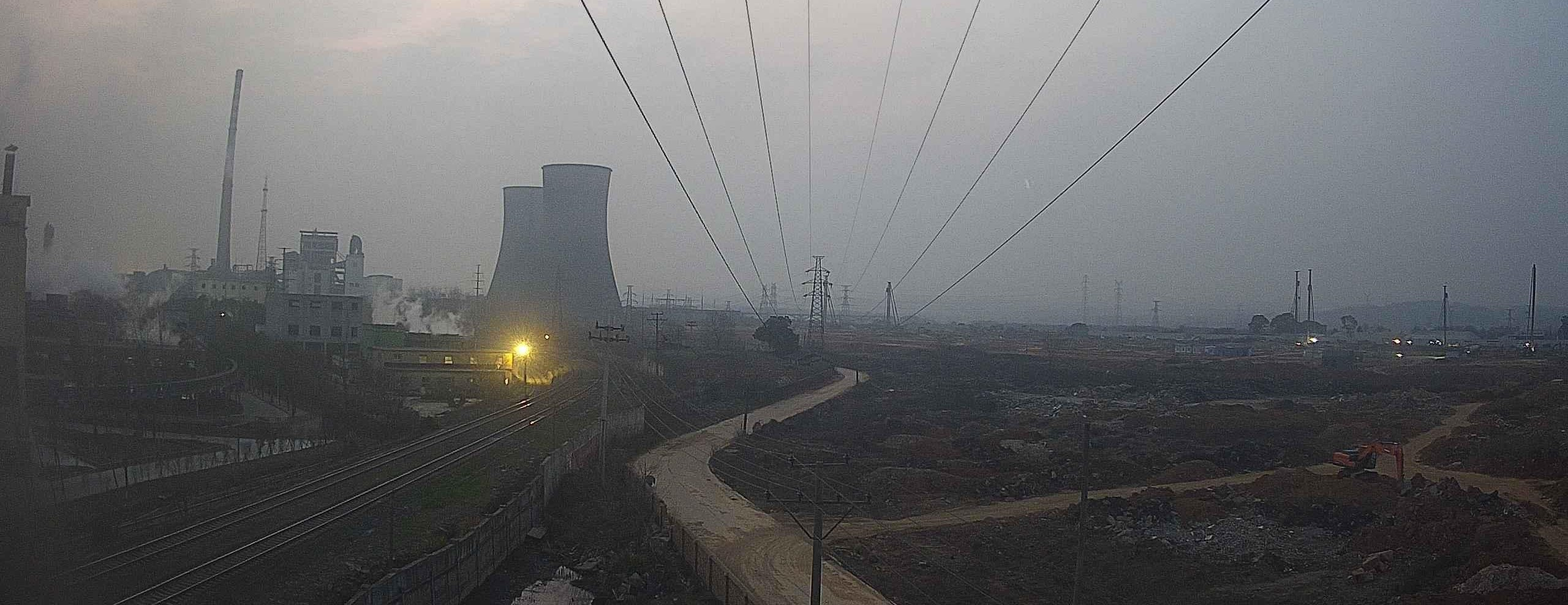工厂排烟: (27, 242, 184, 346), (370, 277, 477, 338)
